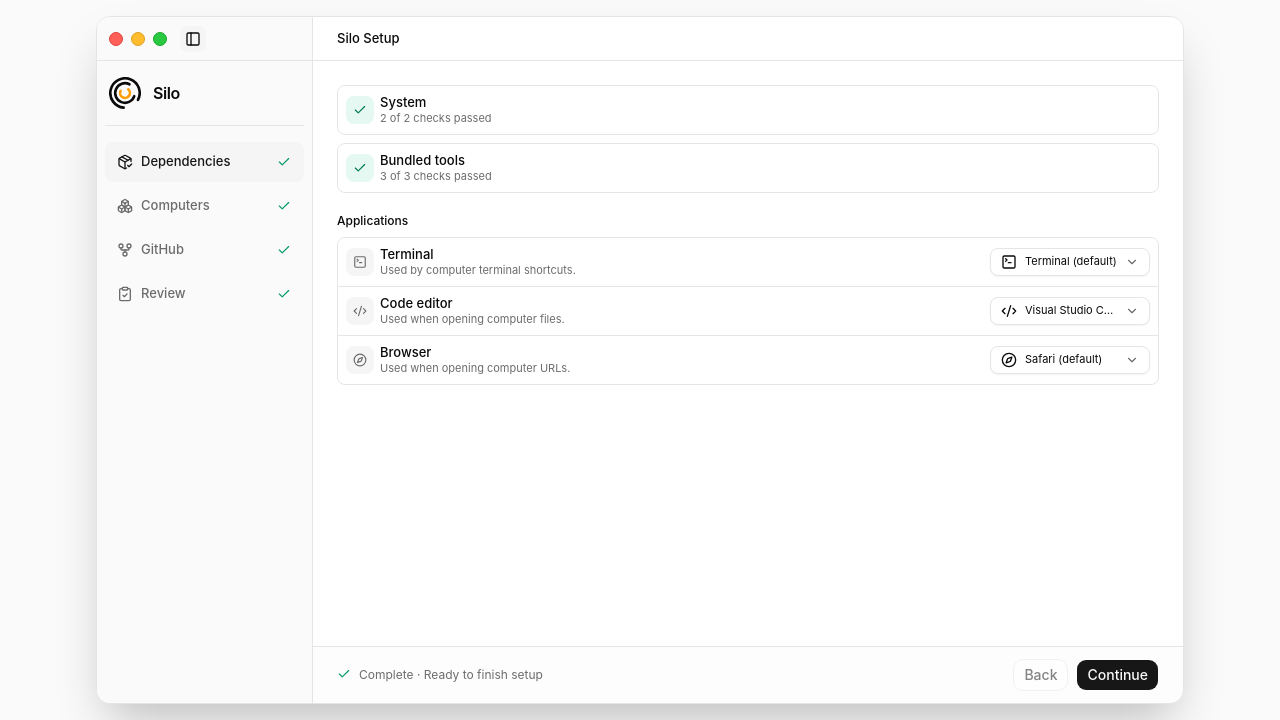
uses singular computer labels in the review of one computer
This screenshot has width=1280, height=720.
Click the tab "Review": click(204, 294) [105, 274, 304, 314]
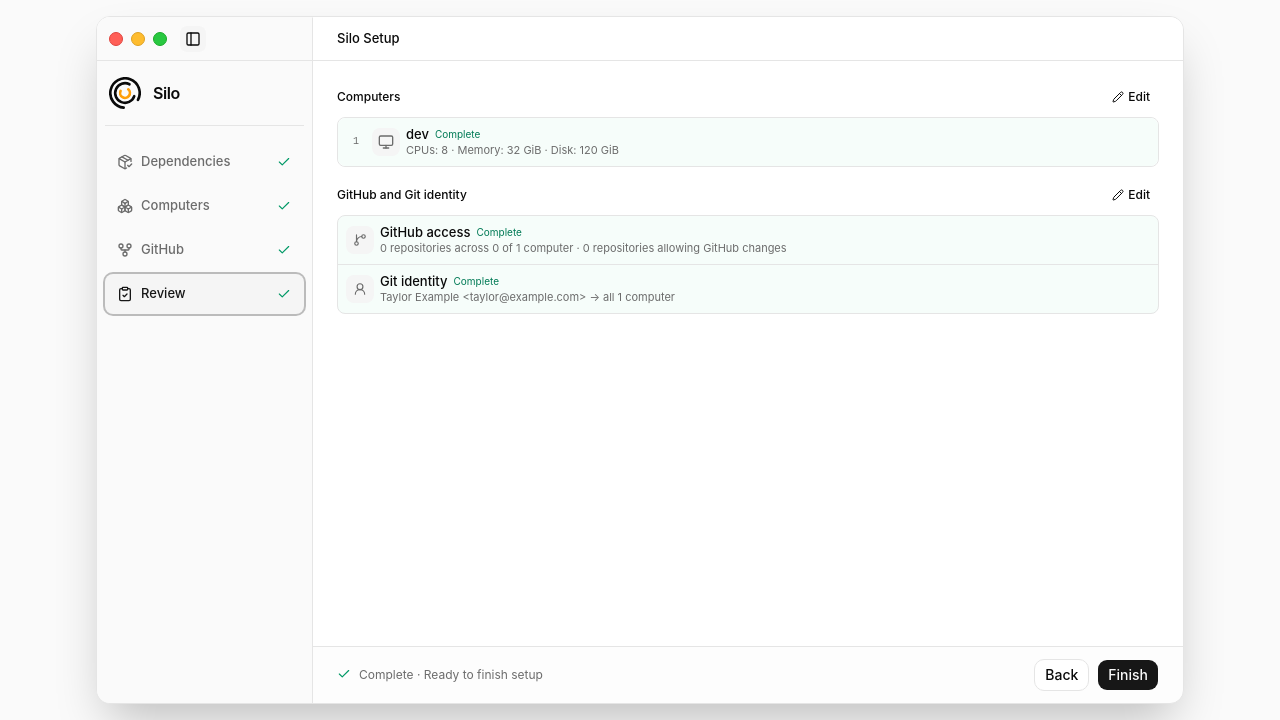
Now the text "0 repositories across" reads "0 repositories across 0 of 1 computer · 0 repositories allowing GitHub changes", box [380, 241, 787, 255]
